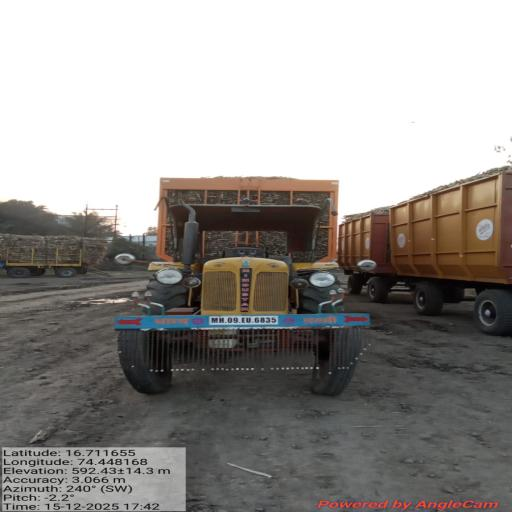number_plate: (210, 316, 278, 326)
